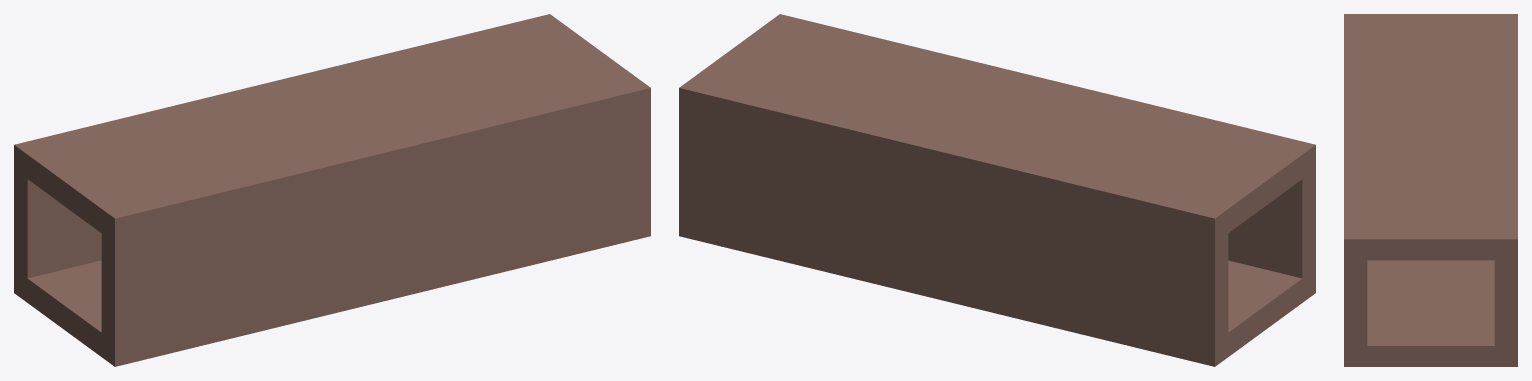
Rendered from Building_038.glb.
3 views of the same model, side by side, from view 1: azimuth 30°, elevation 25°; view 2: azimuth 150°, elevation 25°; view 3: azimuth 270°, elevation 25° (orthographic). The views are drawn at different scales.
Visible parts, largest first — view 1: Building_038; view 2: Building_038; view 3: Building_038.
Part boxes in pixels (bbox=[...]): Building_038: bbox=[14, 14, 650, 366]; Building_038: bbox=[679, 14, 1315, 366]; Building_038: bbox=[1344, 14, 1517, 366].
Bounding box in the file's own units: 6.76 × 1.79 × 2.21.
1 material, 1 textured.
